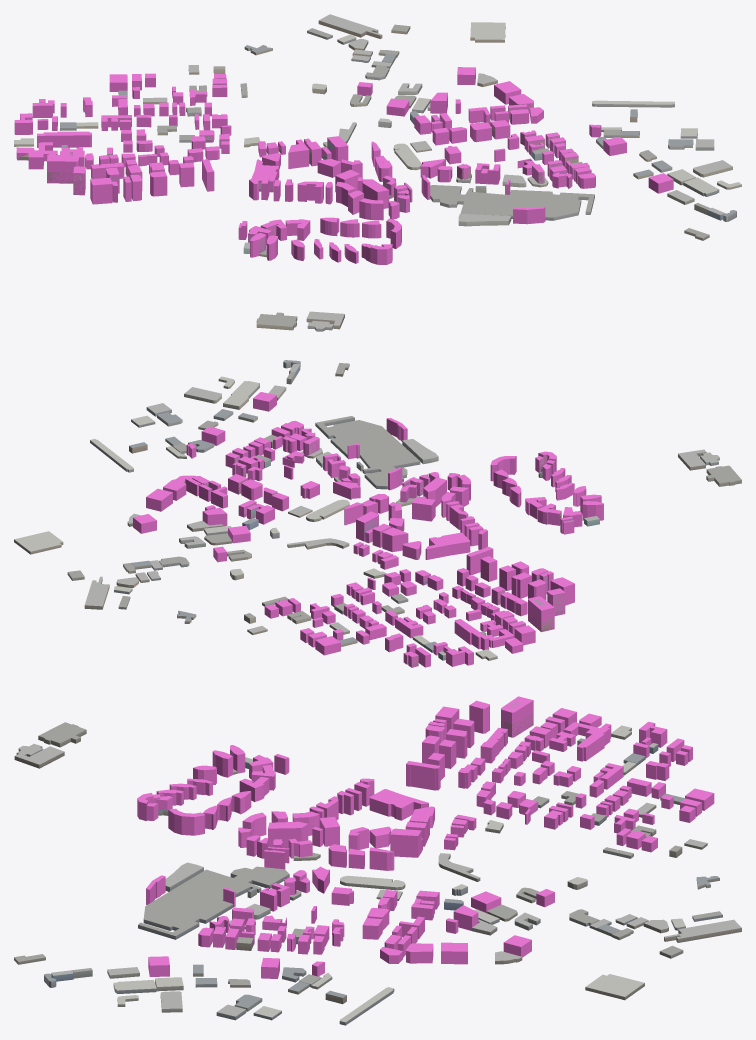
The model's file is bld_15_12.fbx.
3 renders of one model, top to bottom at view 1: azimuth 30°, elevation 25°; view 2: azimuth 150°, elevation 25°; view 3: azimuth 270°, elevation 25°, orthographic. The views are drawn at different scales.
Visible parts, largest first — view 1: bld_15_12_COL, bld_15_12_LOD0; view 2: bld_15_12_COL, bld_15_12_LOD0; view 3: bld_15_12_COL, bld_15_12_LOD0.
Part boxes in pixels (x1,y1,x2,y2): bld_15_12_COL: (14, 67, 673, 264); bld_15_12_LOD0: (14, 14, 741, 331); bld_15_12_COL: (133, 392, 603, 667); bld_15_12_LOD0: (14, 360, 741, 667); bld_15_12_COL: (137, 696, 714, 978); bld_15_12_LOD0: (14, 701, 741, 1025).
Size of what is drawn, in the model's own units: 2097 by 80.18 by 2120.
